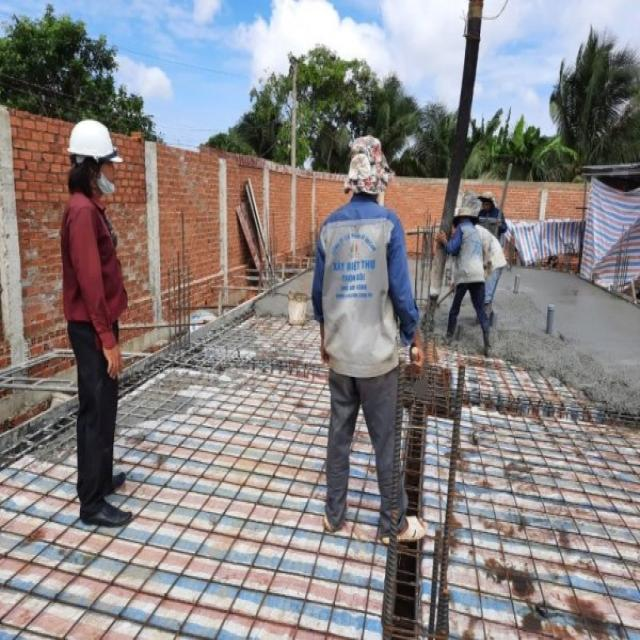boots: (78, 485, 140, 535), (96, 467, 138, 491), (440, 321, 458, 348), (478, 328, 492, 358)
hardhat: (63, 111, 125, 198)
no_boots: (379, 508, 431, 548)
no_gloves: (96, 330, 134, 381), (406, 342, 428, 375), (432, 215, 450, 254), (319, 339, 335, 369)
no_hardhat: (342, 131, 396, 200), (452, 200, 482, 232)
no_vest: (312, 186, 421, 372), (60, 187, 132, 352), (444, 225, 491, 288), (473, 222, 510, 278)
person: (311, 132, 432, 551), (53, 117, 137, 534), (438, 202, 490, 358), (474, 214, 509, 327)
